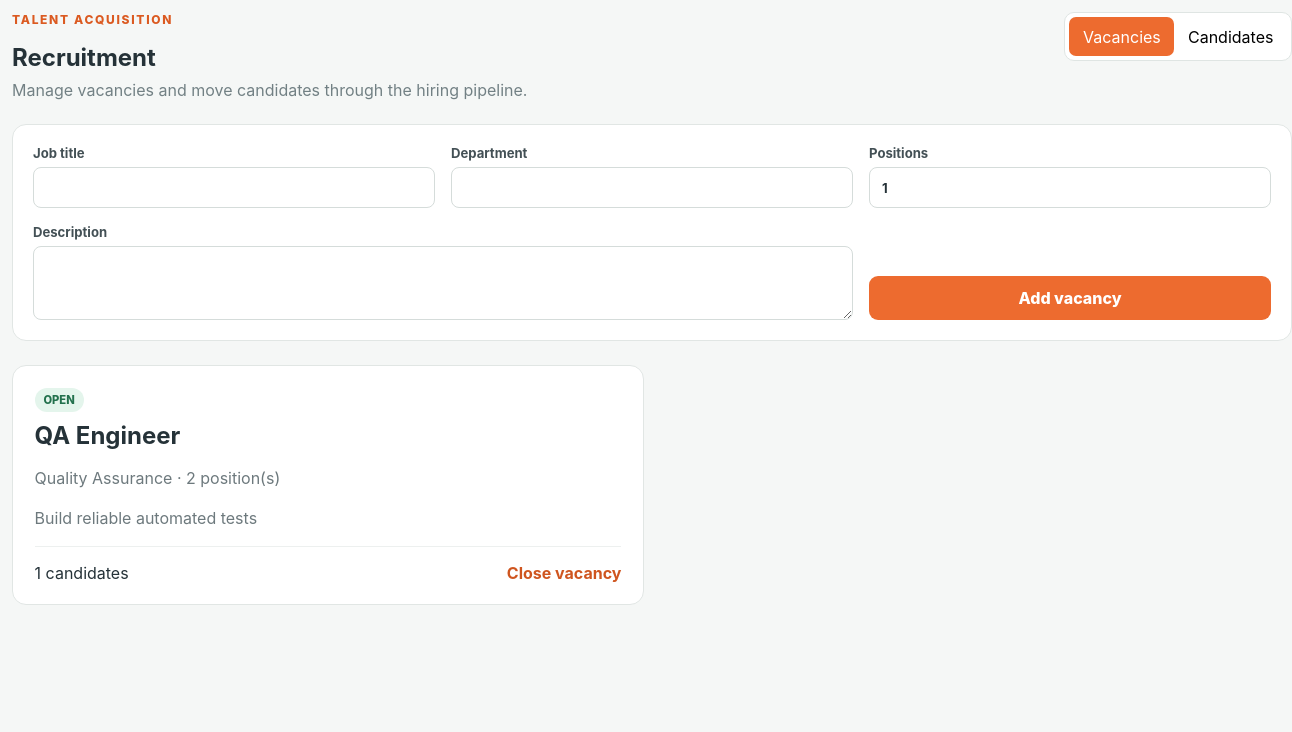
Test: RecruitmentManager › loads vacancies and exposes the candidate pipeline
Click the button "Candidates" at (1231, 37), box x1=1174 y1=17 x2=1287 y2=56
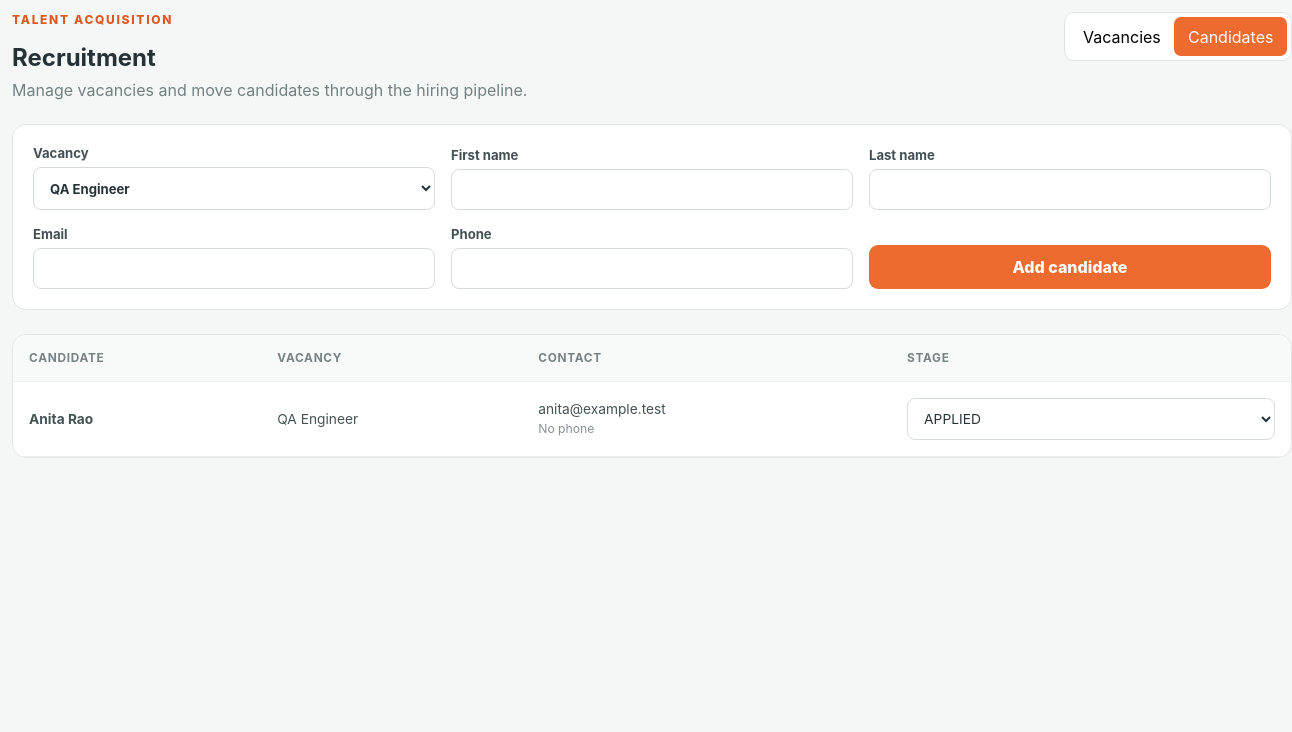
Now the text "Anita Rao" is shown, box x1=29 y1=411 x2=93 y2=427
